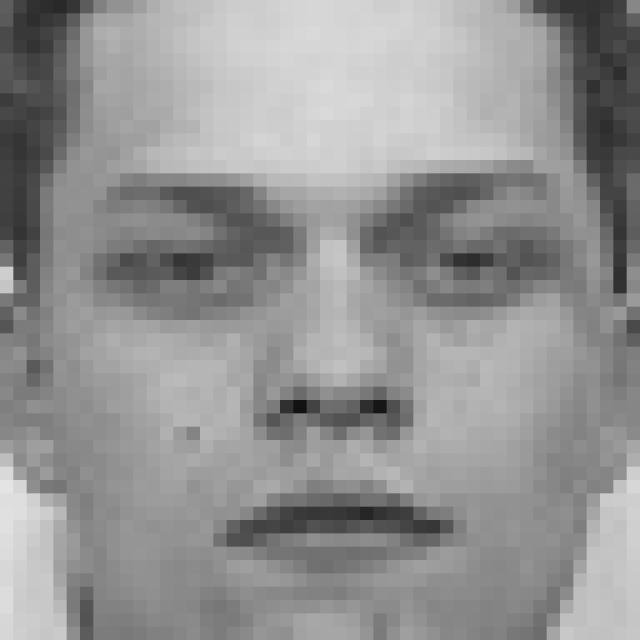neutral: (81, 149, 584, 590)
